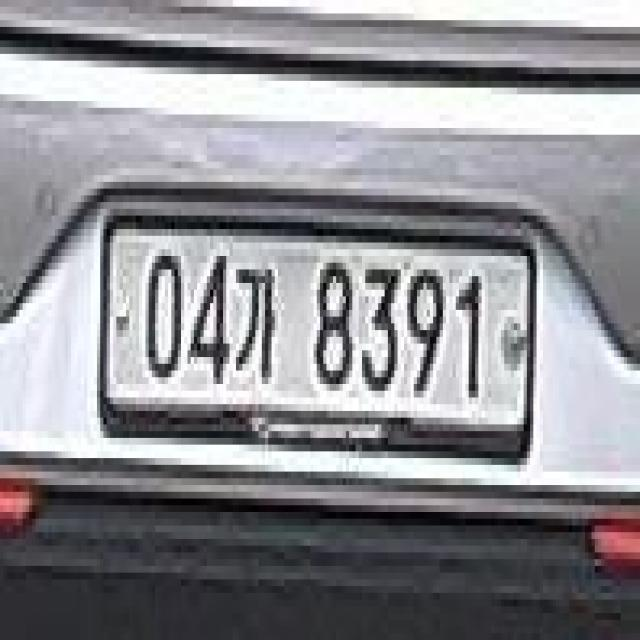illegal_plate: (94, 195, 541, 483)
